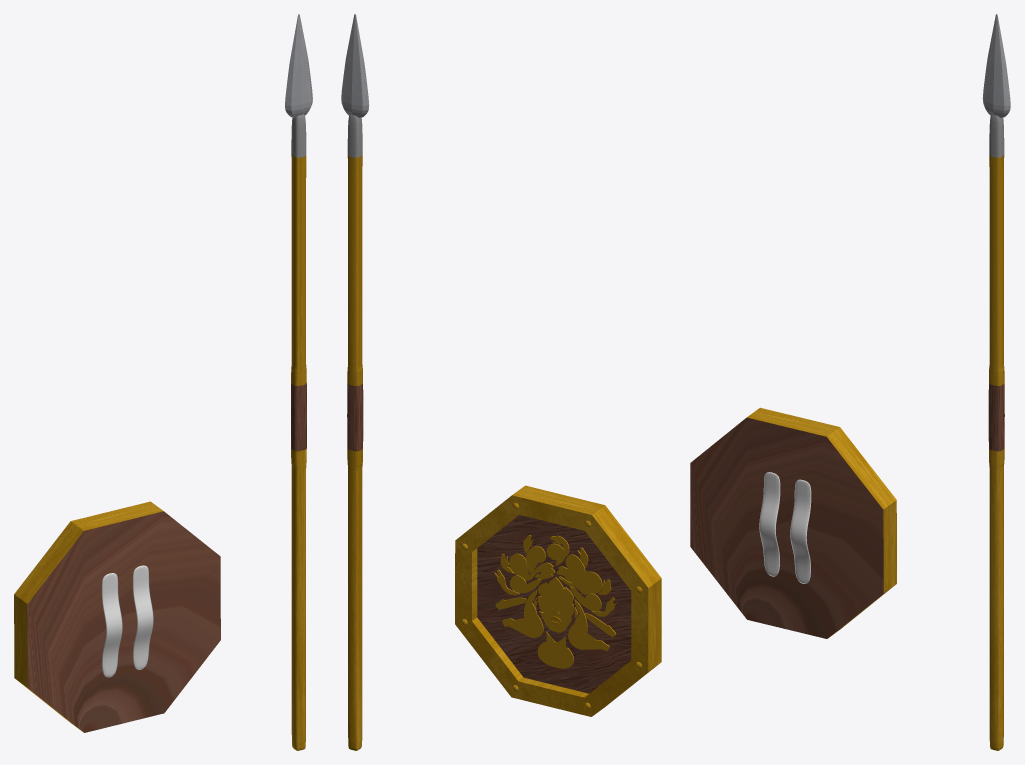
File: AthenaWeapon.fbx
3 renders of one model, left to right at view 1: azimuth 30°, elevation 25°; view 2: azimuth 150°, elevation 25°; view 3: azimuth 330°, elevation 25°, orthographic.
Visible parts, largest first — view 1: Schild athena, Spear athena; view 2: Schild athena, Spear athena; view 3: Schild athena, Spear athena.
Boxes of the visible parts, bbox=[...] form: Schild athena: bbox=[14, 501, 220, 732]; Spear athena: bbox=[285, 14, 312, 750]; Schild athena: bbox=[455, 485, 661, 716]; Spear athena: bbox=[341, 14, 369, 750]; Schild athena: bbox=[690, 407, 896, 638]; Spear athena: bbox=[982, 14, 1010, 750].
Size of the model in its own units: 290 by 671 by 43.59.
5 materials, 3 textured.
